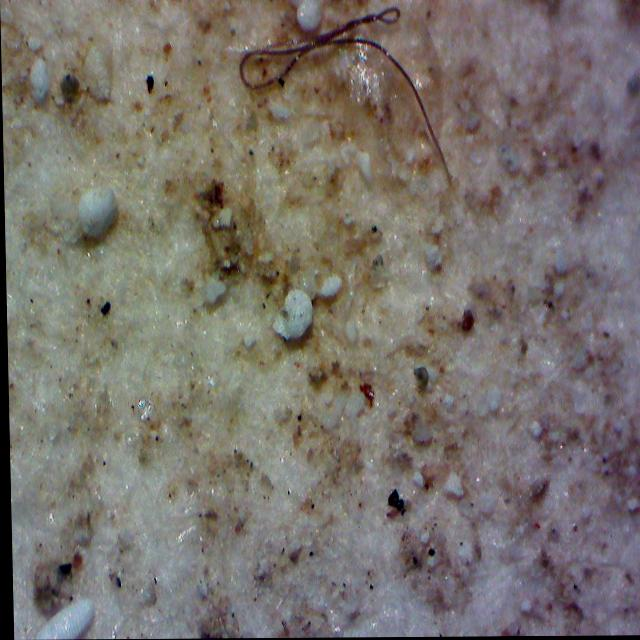microplastic: (231, 2, 453, 234)
